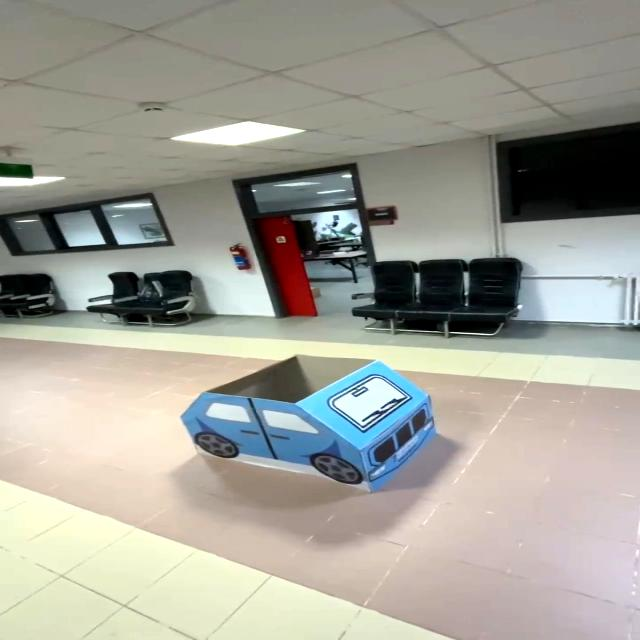blue_car: (135, 349, 467, 503)
